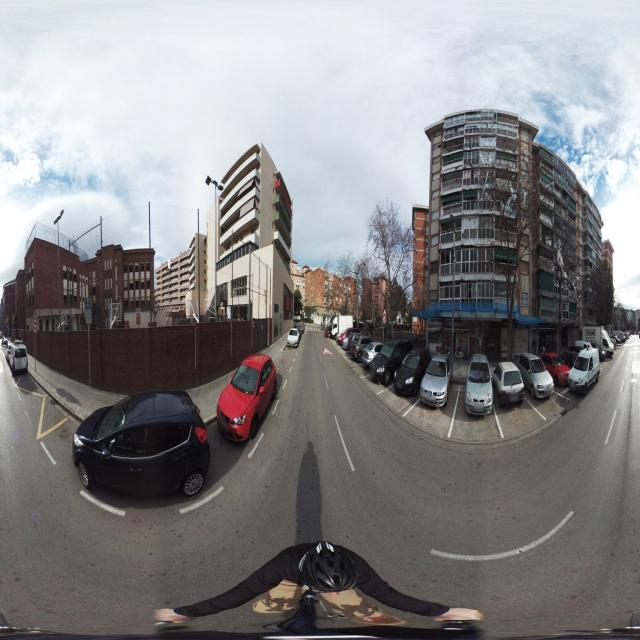bike: (1, 336, 8, 348)
car: (72, 388, 210, 501), (214, 356, 278, 446), (393, 347, 449, 398), (372, 338, 424, 384), (513, 355, 554, 399), (464, 360, 493, 417), (491, 361, 525, 408), (420, 358, 450, 408), (568, 358, 599, 394), (542, 354, 570, 387), (582, 328, 613, 356), (351, 334, 376, 360), (347, 333, 373, 357), (359, 340, 384, 364), (11, 344, 28, 376), (330, 316, 354, 338), (342, 327, 363, 351), (287, 327, 299, 347), (6, 344, 15, 364), (612, 330, 626, 342), (294, 322, 304, 334)
